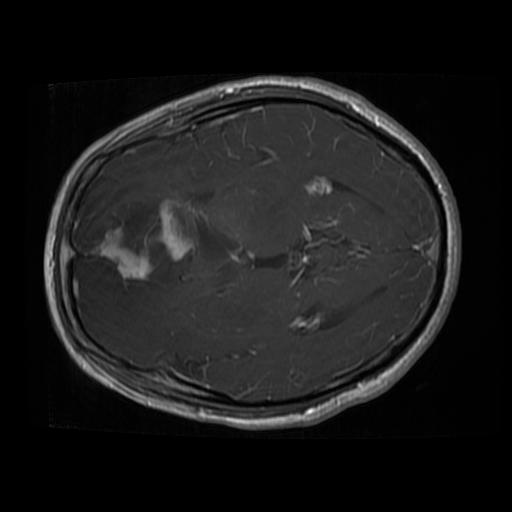glioma: (103, 206, 233, 283)
